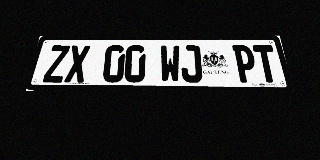0: (102, 45, 126, 83), (124, 45, 146, 83)
J: (180, 45, 203, 83)
P: (232, 45, 259, 83)
T: (252, 45, 280, 83)
W: (160, 45, 181, 83)
X: (64, 45, 90, 83)
Z: (42, 45, 70, 83)
